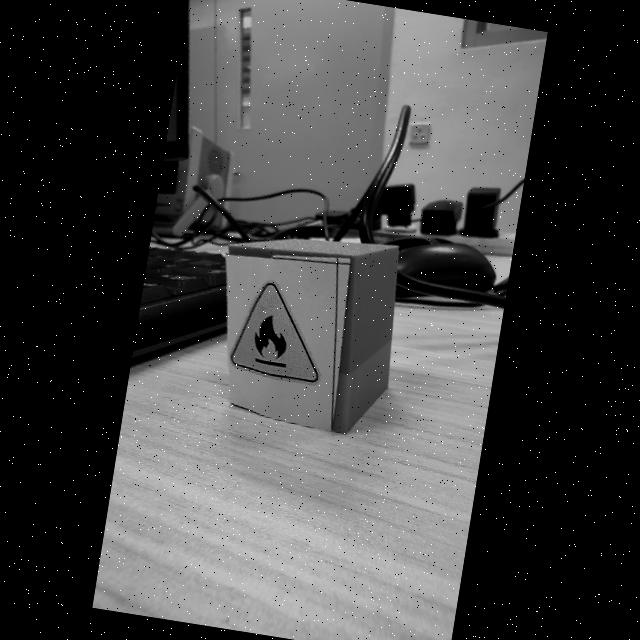Fire: (231, 283, 317, 382)
